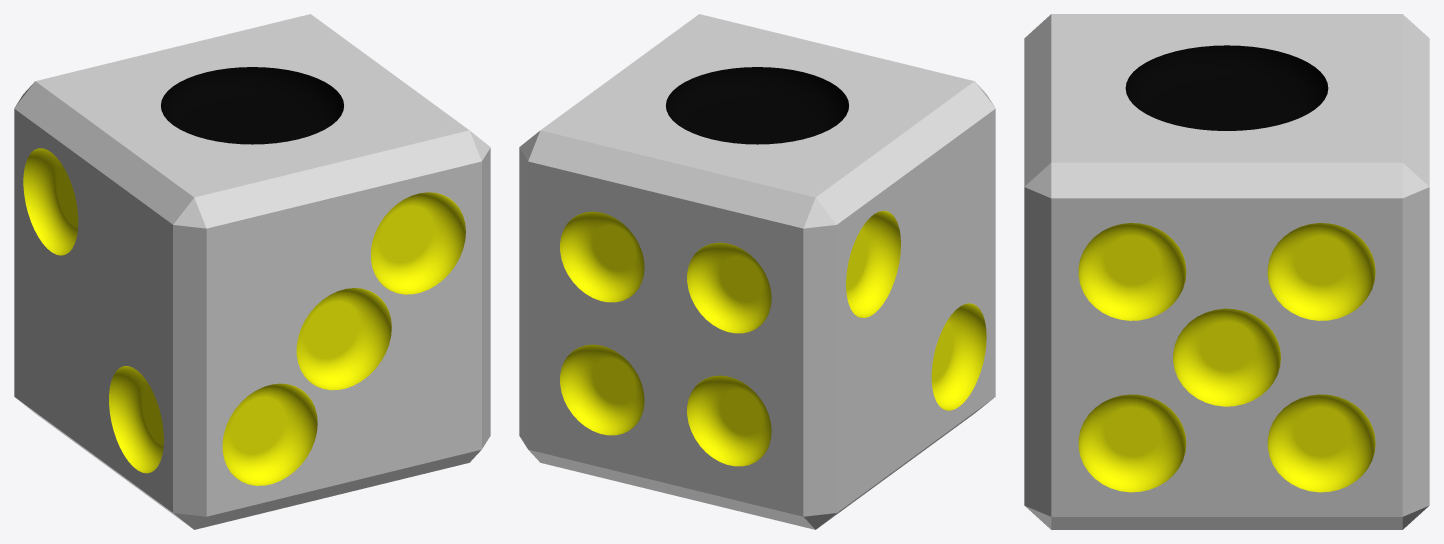
The model's file is saikoro.glb.
3 renders of one model, left to right at view 1: azimuth 30°, elevation 25°; view 2: azimuth 150°, elevation 25°; view 3: azimuth 270°, elevation 25°, orthographic. The views are drawn at different scales.
Visible parts, largest first — view 1: saikoro; view 2: saikoro; view 3: saikoro.
Boxes of the visible parts, bbox=[...] form: saikoro: bbox=[14, 14, 490, 529]; saikoro: bbox=[519, 14, 995, 529]; saikoro: bbox=[1024, 14, 1429, 529].
Size of the model in its own units: 0.03 by 0.03 by 0.03.
